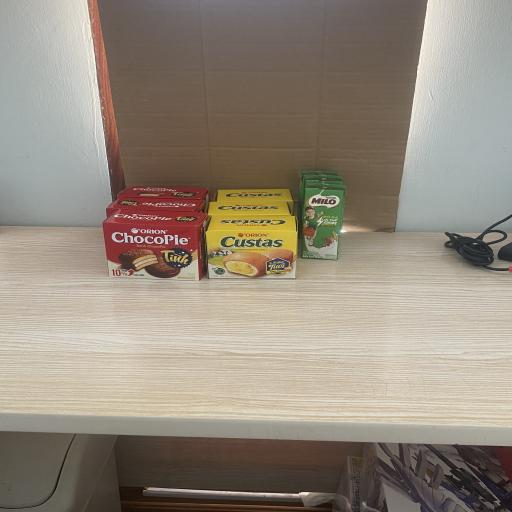chocopie: (102, 211, 208, 281), (116, 186, 211, 205), (106, 198, 206, 216)
custas: (205, 215, 297, 280), (216, 188, 294, 213), (207, 201, 290, 217)
milo: (298, 182, 346, 260), (296, 170, 337, 225), (300, 174, 342, 188), (302, 179, 344, 184)
